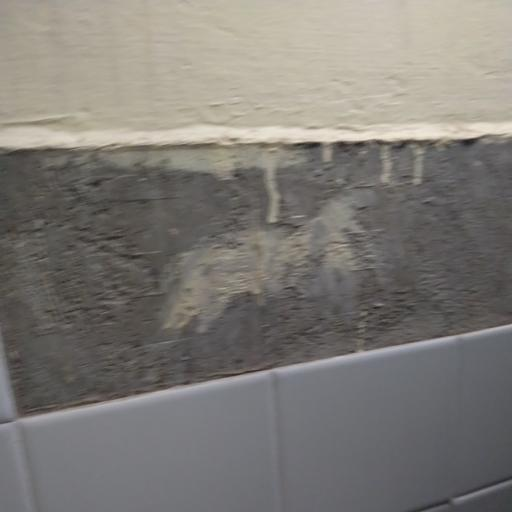spalling: (0, 116, 512, 422)
